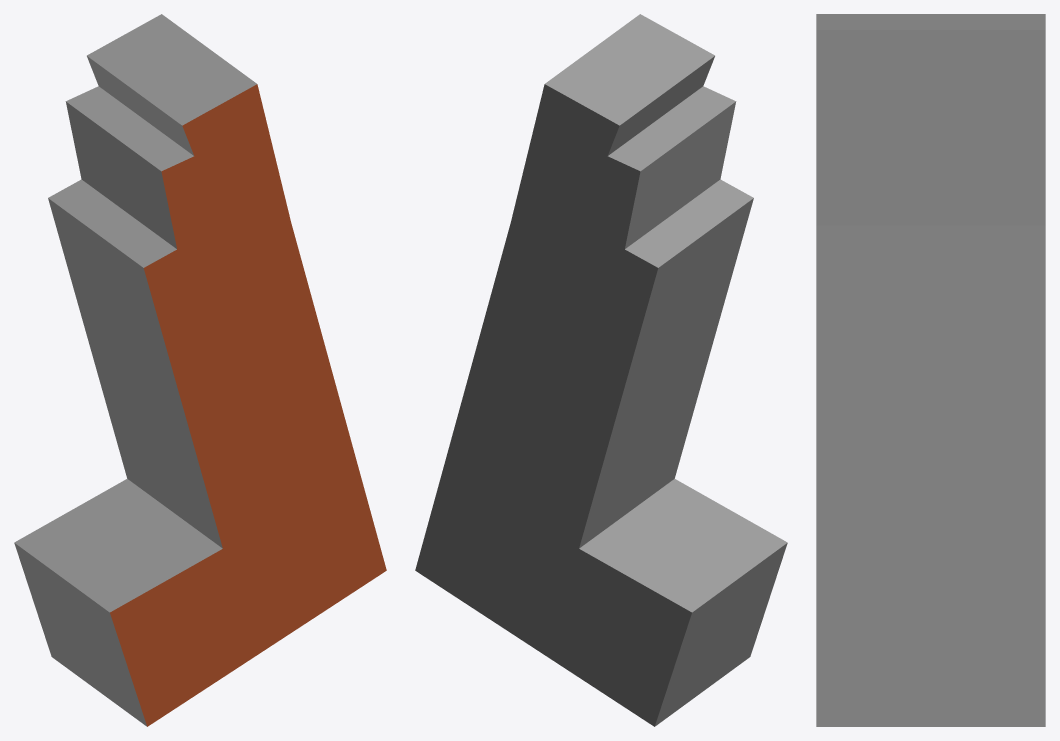
File: construction_1201_assumed_A_Casa_h6m.obj
3 views of the same model, side by side, from view 1: azimuth 30°, elevation 25°; view 2: azimuth 150°, elevation 25°; view 3: azimuth 270°, elevation 25° (orthographic). The views are drawn at different scales.
Visible parts, largest first — view 1: construction_1201_assumed_A_Casa; view 2: construction_1201_assumed_A_Casa; view 3: construction_1201_assumed_A_Casa.
Boxes of the visible parts, box(x1,y1,x2,y2) form: construction_1201_assumed_A_Casa: box(14, 14, 386, 726); construction_1201_assumed_A_Casa: box(415, 14, 787, 726); construction_1201_assumed_A_Casa: box(816, 14, 1045, 726).
Size of the model in its own units: 10.03 by 21.31 by 6.
